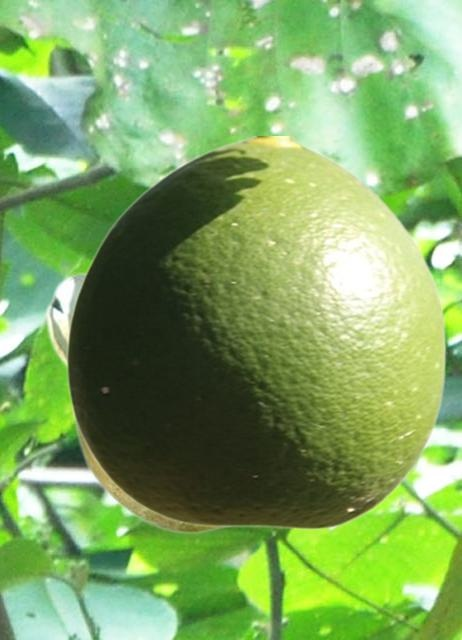dalandan: (65, 136, 446, 529), (43, 268, 234, 533)
